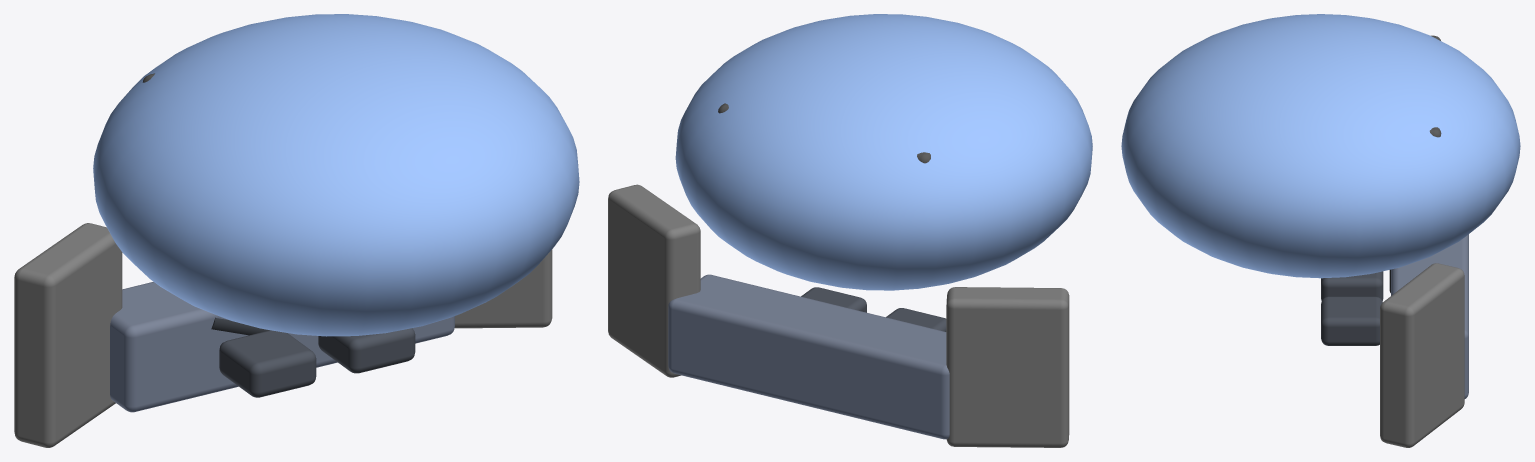
The model's file is cockpit.glb.
The picture shows the model from 3 angles, left to right: view 1: azimuth 30°, elevation 25°; view 2: azimuth 150°, elevation 25°; view 3: azimuth 270°, elevation 25°; orthographic projection. The views are drawn at different scales.
Parts seen in each view (by area): view 1: canopy, panel_left, dashboard, seat_left, panel_right, seat_right, stick_left; view 2: canopy, dashboard, panel_left, panel_right, seat_right, seat_left; view 3: canopy, panel_right, seat_right, dashboard, seat_left.
Boxes of the visible parts, <box> form: canopy: <box>93,14,579,336</box>; panel_left: <box>14,223,122,447</box>; dashboard: <box>110,282,454,412</box>; seat_left: <box>219,330,316,397</box>; panel_right: <box>454,249,552,328</box>; seat_right: <box>318,328,415,373</box>; stick_left: <box>211,317,269,335</box>; canopy: <box>675,14,1092,290</box>; dashboard: <box>668,274,949,439</box>; panel_left: <box>946,287,1069,447</box>; panel_right: <box>608,184,700,377</box>; seat_right: <box>801,287,866,312</box>; seat_left: <box>886,308,946,331</box>; canopy: <box>1121,14,1520,278</box>; panel_right: <box>1380,263,1464,447</box>; seat_right: <box>1321,296,1382,345</box>; dashboard: <box>1391,234,1468,398</box>; seat_left: <box>1321,271,1383,300</box>.
Bounding box in the file's own units: 6.48 × 4.24 × 5.12.
